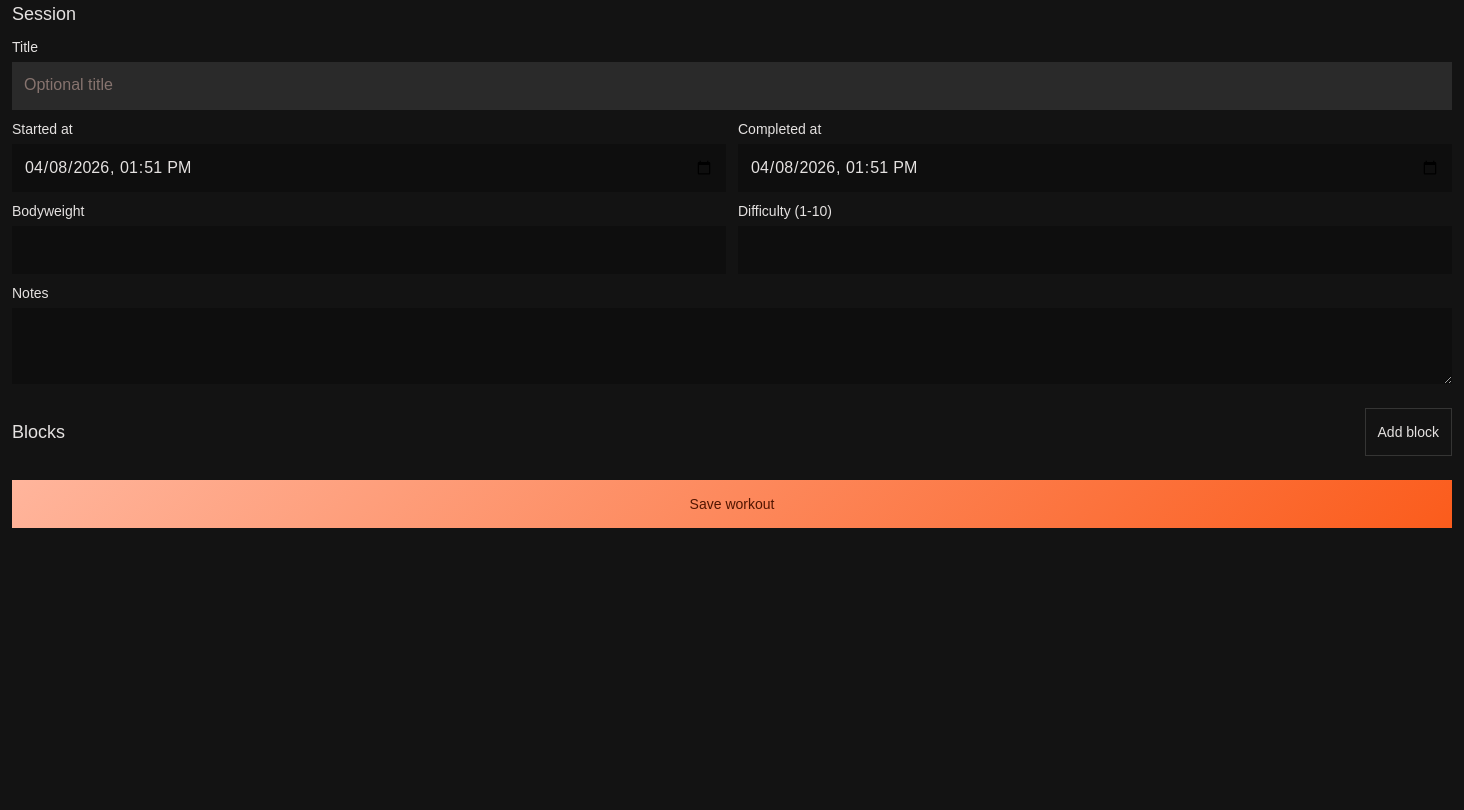
Test: ManualWorkoutForm -- create flow › blocks submit when startedAt is empty and shows error
Clear the field labelled "Started at" at coordinates (369, 168), box [12,144,726,192]
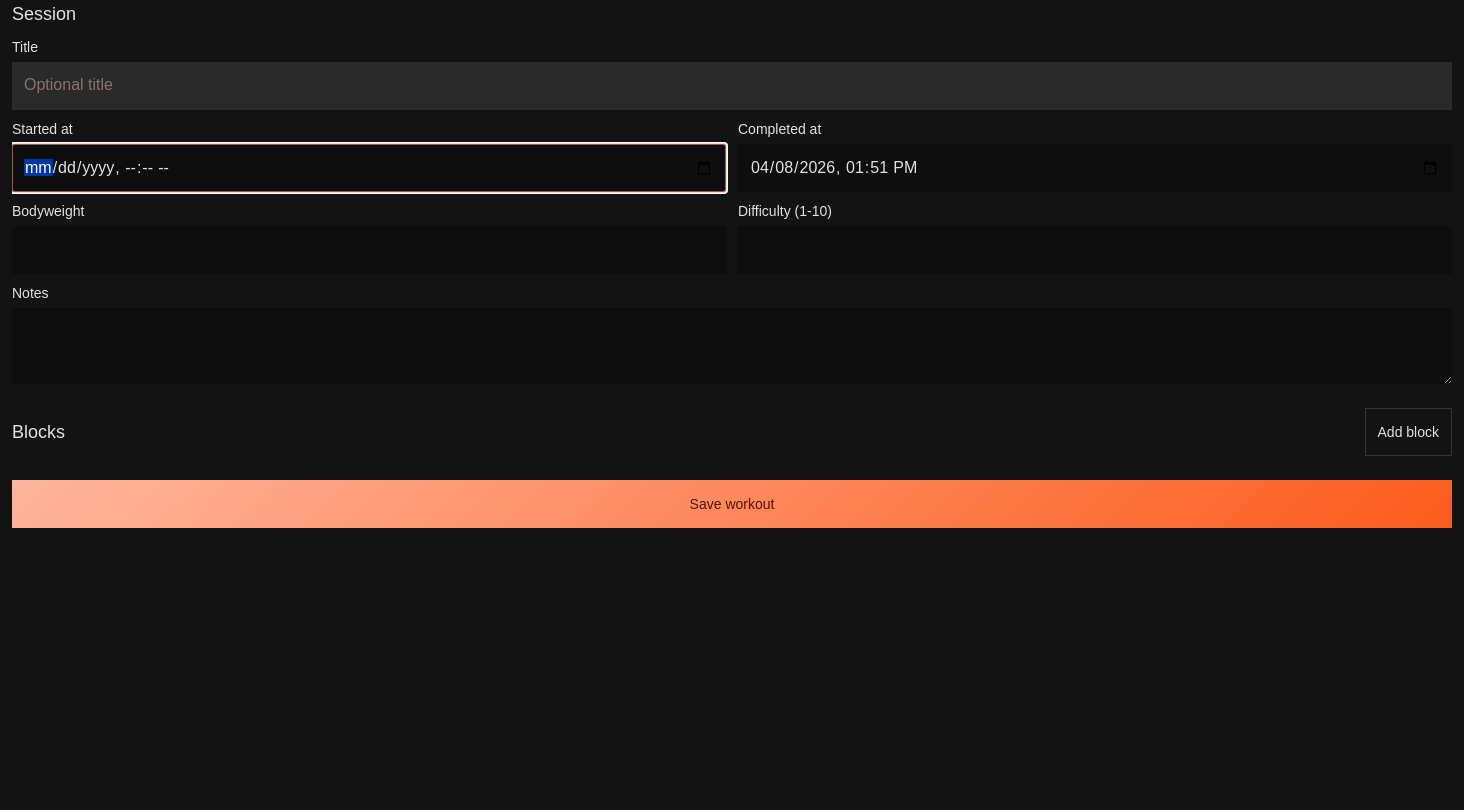
Click the button "Save workout" at coordinates (732, 504), box [12,480,1452,528]
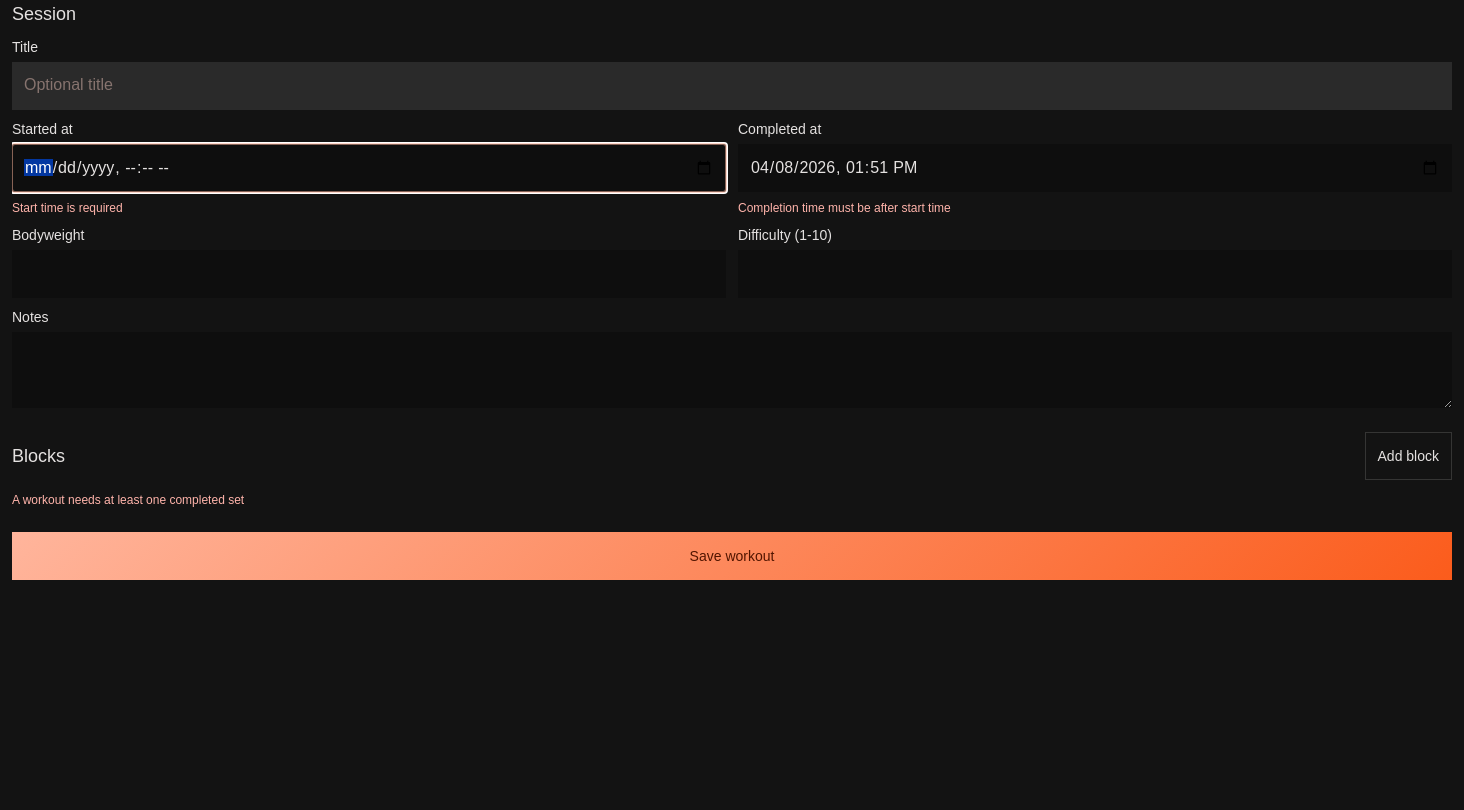
Check: the text "Start time is required" is shown, box [12,201,123,215]
